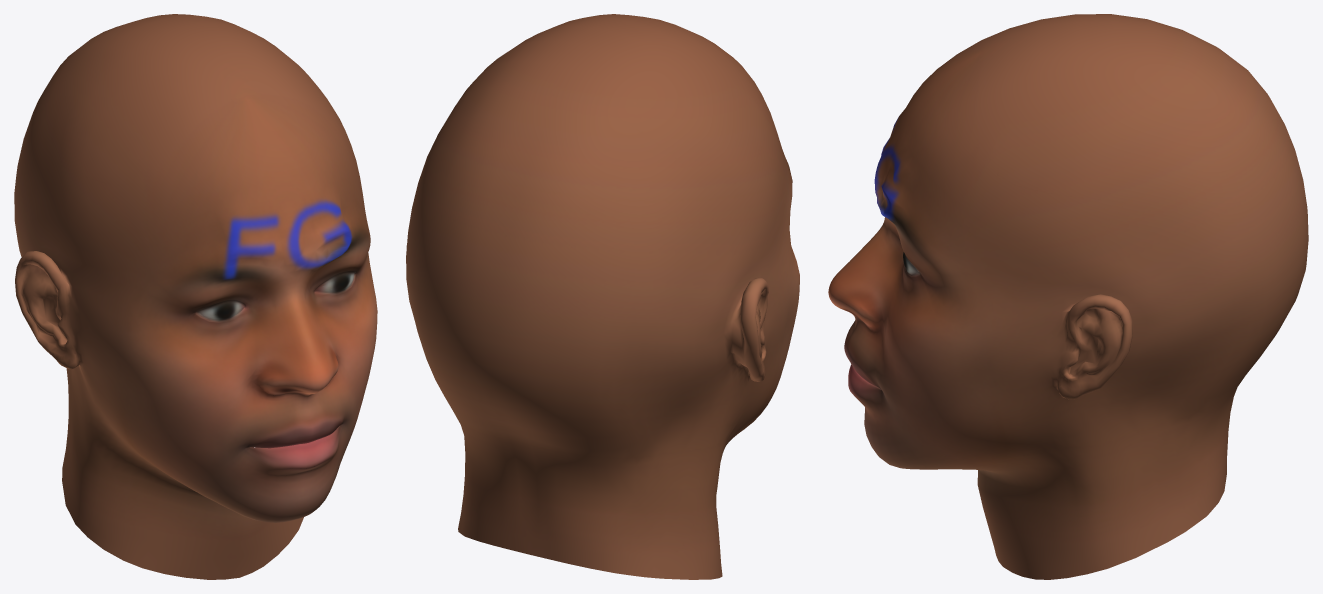
Rendered from avg_african_anysex.obj.
3 views of the same model, side by side, from view 1: azimuth 30°, elevation 25°; view 2: azimuth 150°, elevation 25°; view 3: azimuth 270°, elevation 25° (orthographic). The views are drawn at different scales.
Visible parts, largest first — view 1: HeadHires; view 2: HeadHires; view 3: HeadHires.
Boxes of the visible parts, left/top/right/bottom form: HeadHires: left=14, top=14, right=377, bottom=579; HeadHires: left=406, top=14, right=799, bottom=579; HeadHires: left=828, top=14, right=1308, bottom=579.
Bounding box in the file's own units: 188 × 283 × 234.
1 material, 1 textured.
